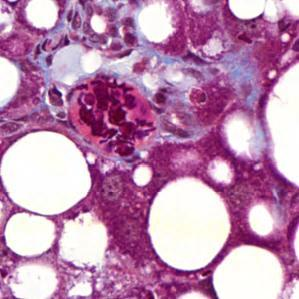steatosis: (0, 127, 95, 217), (150, 174, 234, 271), (5, 210, 57, 255)
